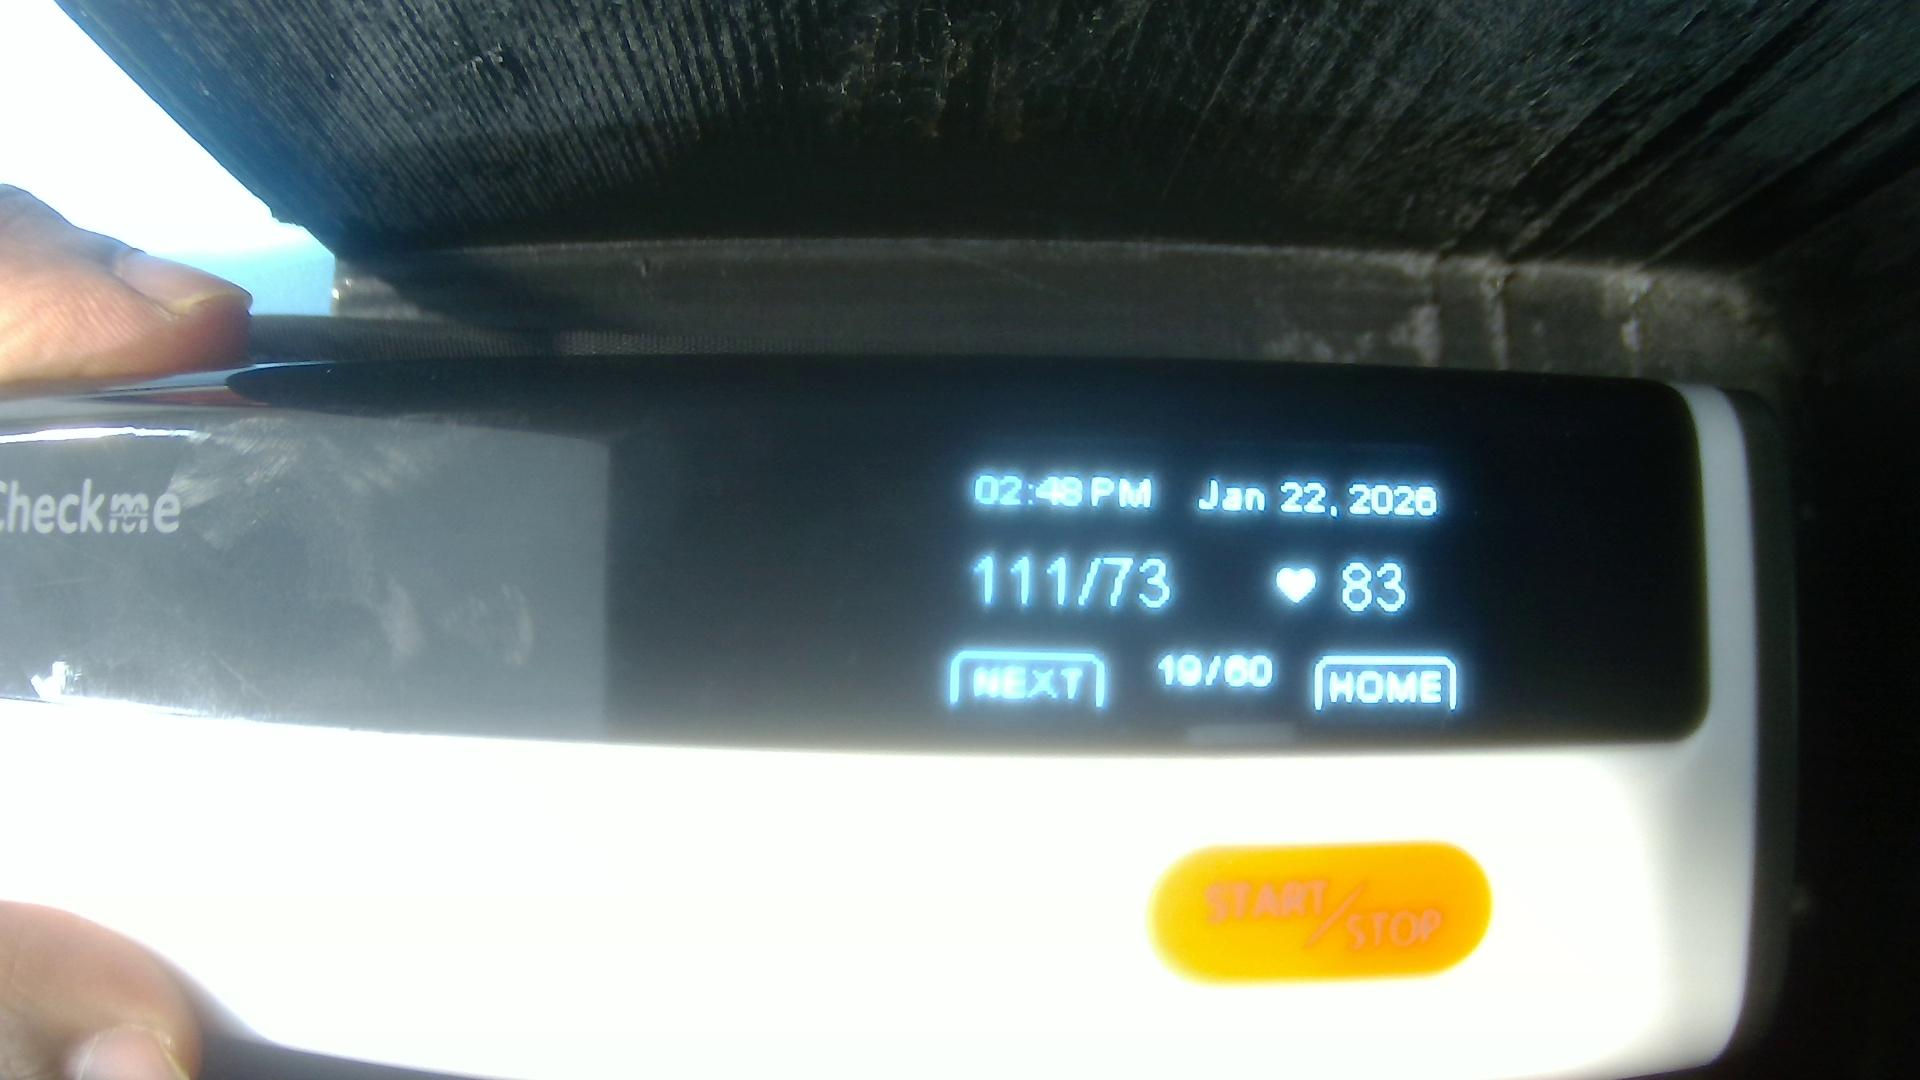DISPLAY: (17, 382, 1695, 737)
